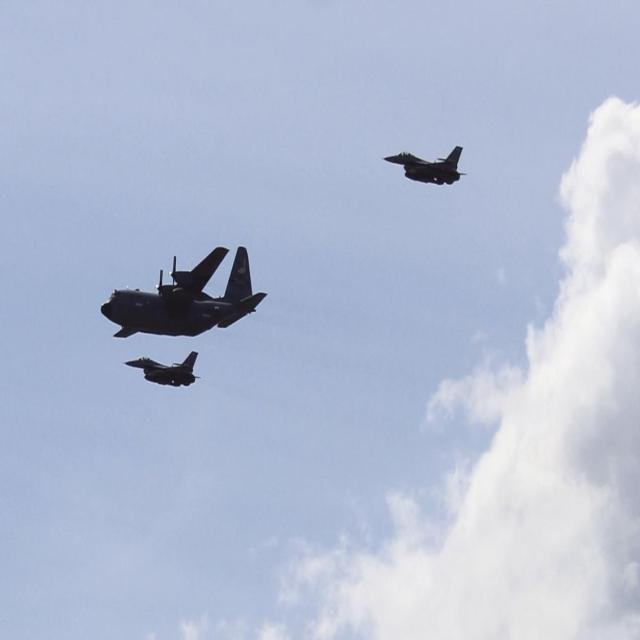MIL_Plane: (116, 246, 252, 339), (379, 146, 467, 186), (121, 350, 201, 388)
